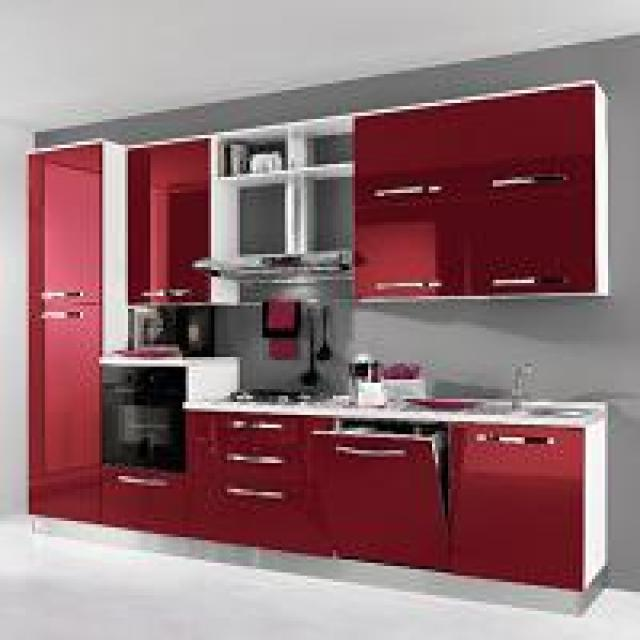dishwasher: (307, 405, 458, 582)
